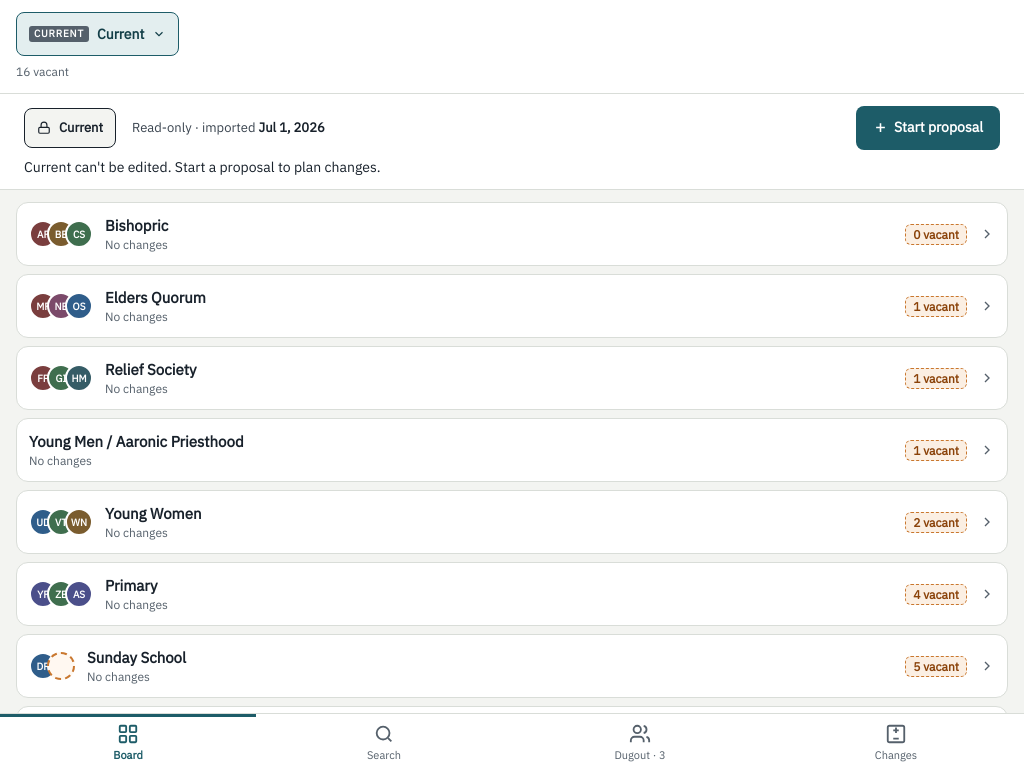
Test case: PhoneApp › selecting a board opens it and returns to the list
The width and height of the screenshot is (1024, 768).
Click the button with aria-label "Primary," at (131, 586), box [16,562,1008,626]
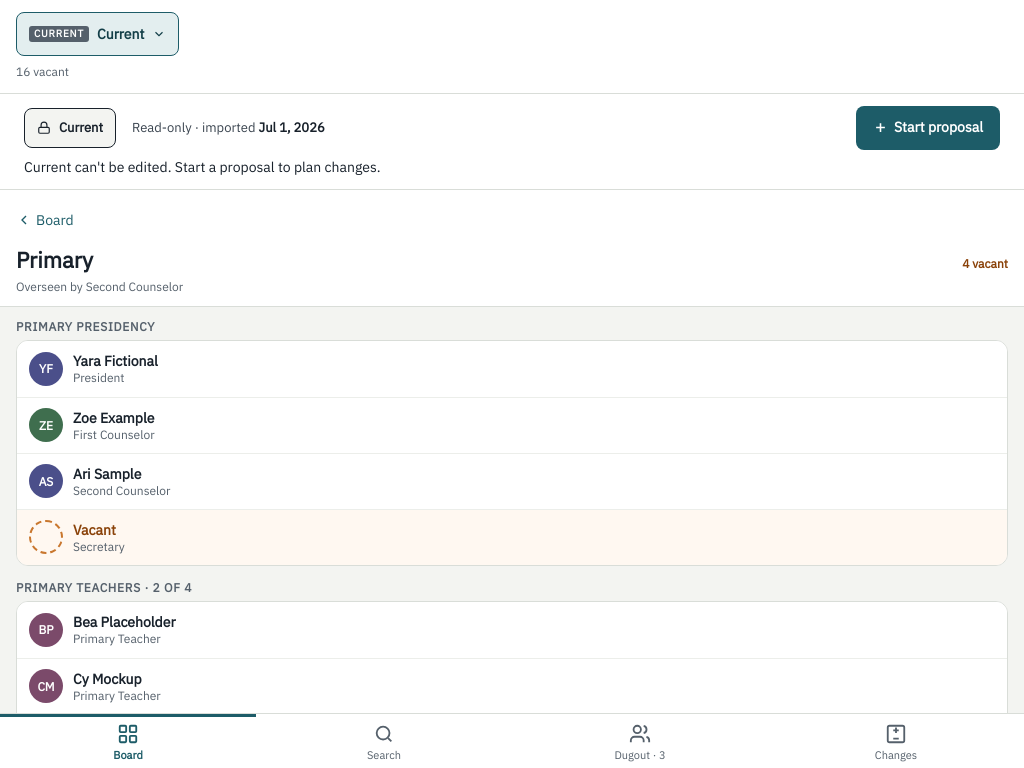
Click the button with aria-label "Switch board" at (98, 34), box [16,12,179,56]
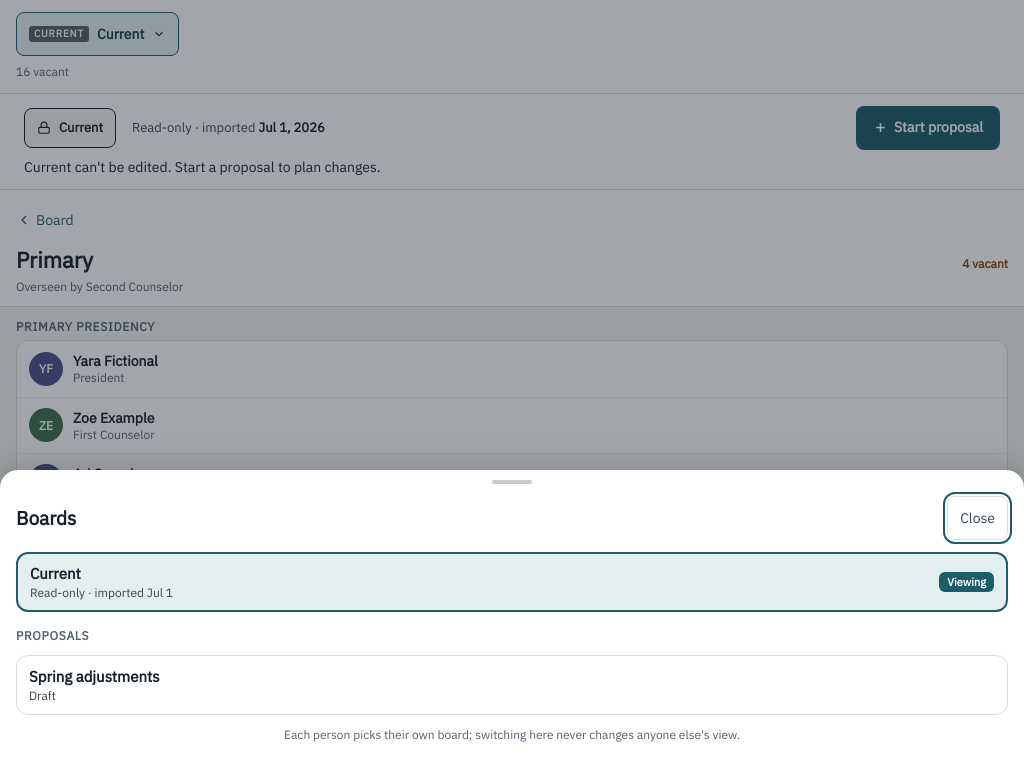
Click the button "Spring adjustments Draft" at (94, 677), box [16,655,1008,715]
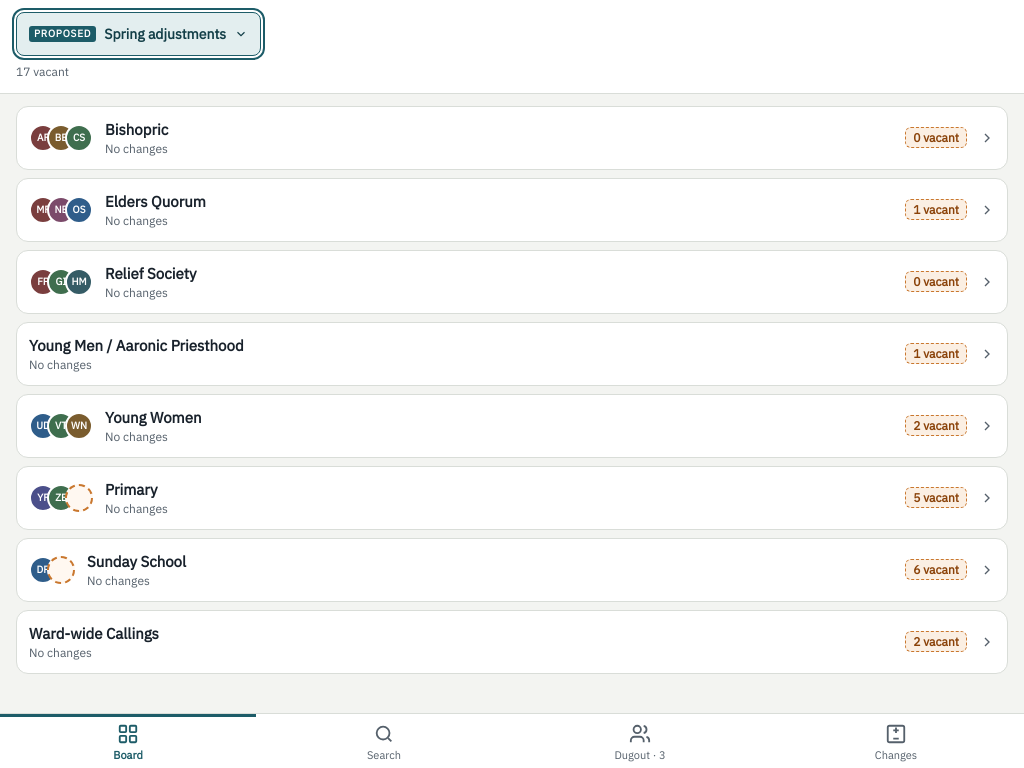
Now the button with aria-label "Primary," is shown, box [16,466,1008,530]
Now the heading "Spring adjustments" is shown, box [104,25,226,43]
